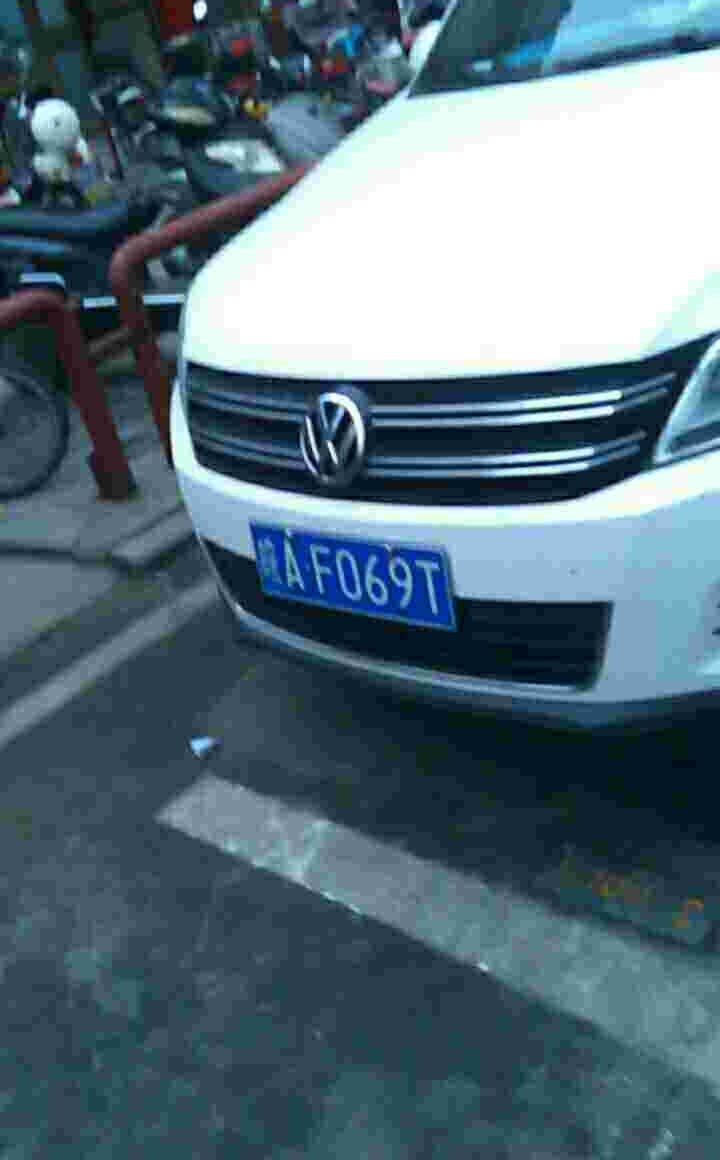license_plate: (249, 523, 455, 628)
